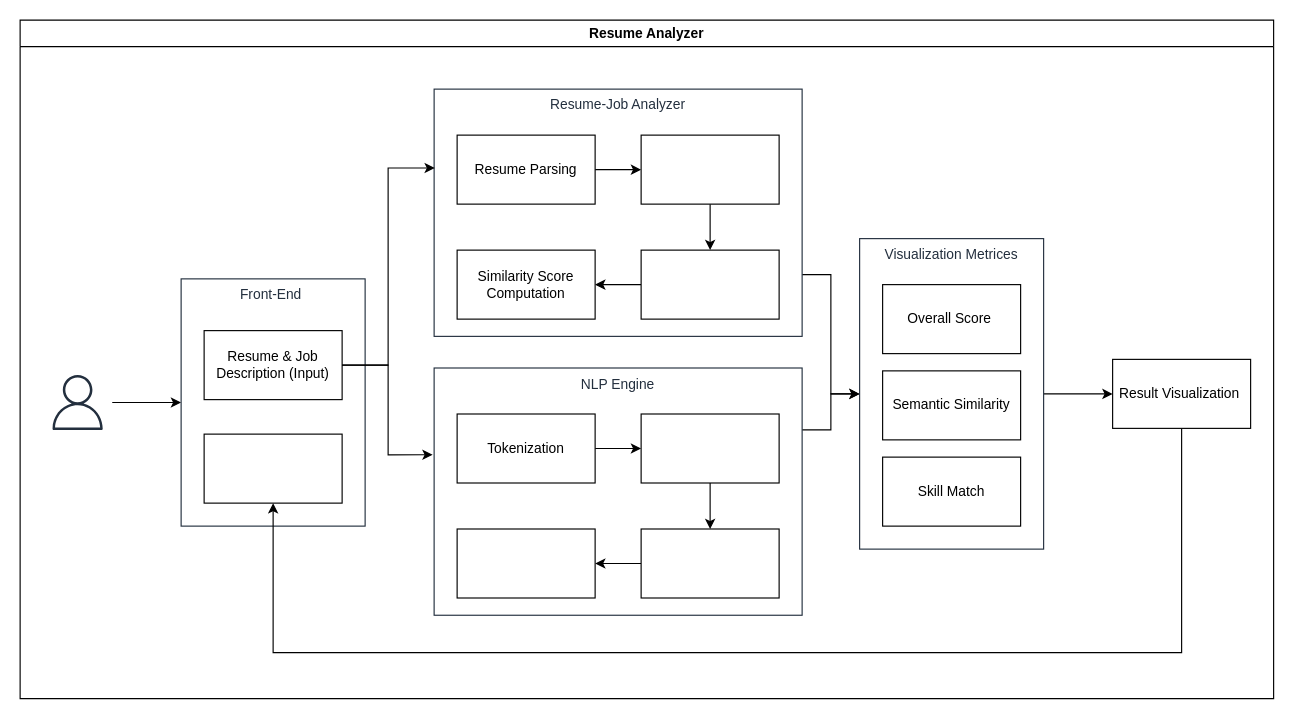
This 1294x719 diagram has some shape labels left out. Here are the shapes that lost their labels. From the top down, the centre of each, then its label:
point (709, 169): Skill Extraction
point (709, 284): Semantic Matching
point (77, 402): User
point (272, 468): Metrices Display
point (709, 448): Sentence Embeddings
point (525, 563): Skill Dictionary Match
point (709, 563): Cosine Similarity Calculation
